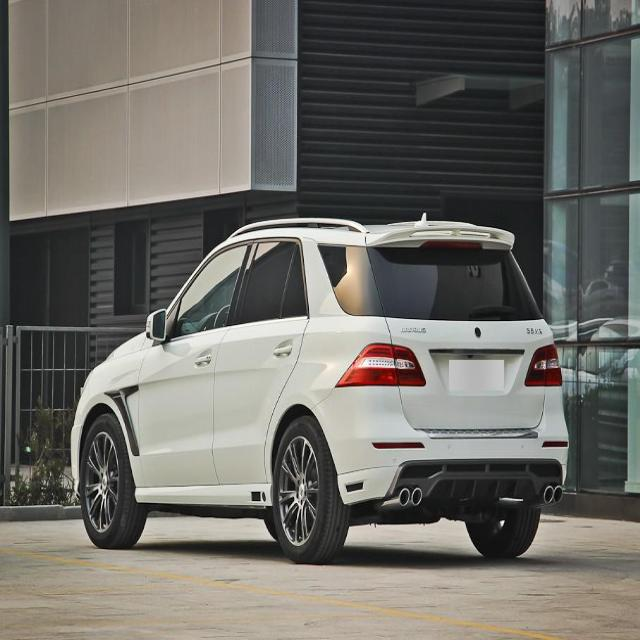back_glass: (366, 238, 544, 322)
back_left_side_light: (332, 342, 426, 388)
back_right_side_light: (524, 342, 563, 388)
door: (208, 232, 308, 496)
front_left_side_door: (136, 234, 254, 488)
front_left_side_mirror: (144, 304, 170, 342)
rear_bumper: (310, 384, 570, 505)
wheel: (272, 416, 348, 564), (80, 414, 143, 550), (466, 501, 542, 557)
